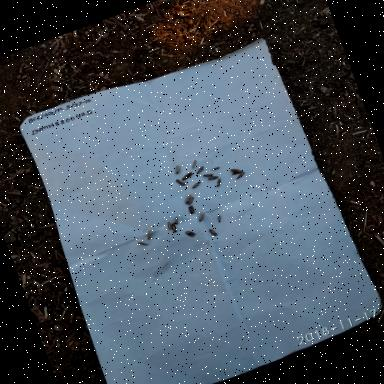pbw: (185, 157, 202, 172), (205, 226, 220, 240), (194, 211, 209, 225), (212, 176, 227, 190), (180, 170, 196, 183), (180, 192, 194, 206), (188, 179, 204, 191), (188, 202, 201, 216), (184, 227, 198, 240), (194, 164, 209, 176), (136, 238, 150, 250), (174, 176, 188, 188), (200, 170, 216, 180), (228, 167, 244, 177), (169, 220, 180, 234), (171, 164, 183, 176), (164, 219, 175, 232), (206, 174, 220, 184), (234, 170, 248, 180), (186, 195, 198, 206), (172, 214, 182, 227), (214, 212, 225, 223), (210, 162, 222, 172), (144, 229, 154, 241), (229, 165, 242, 174)
